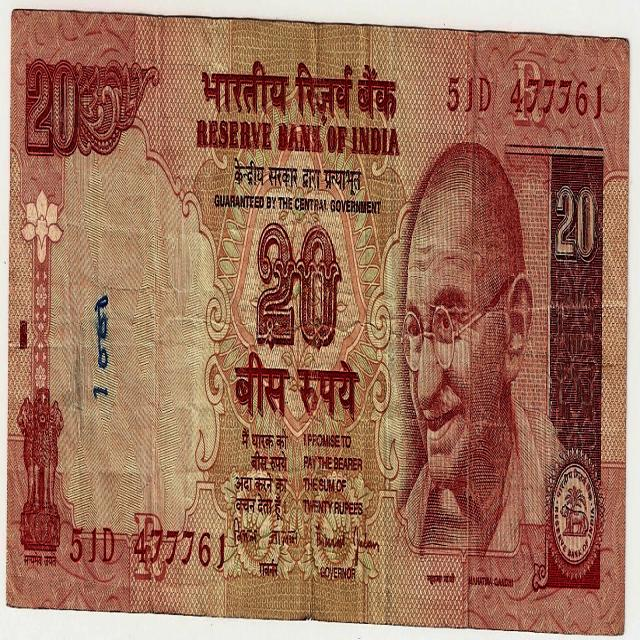20rs: (11, 5, 626, 638)
